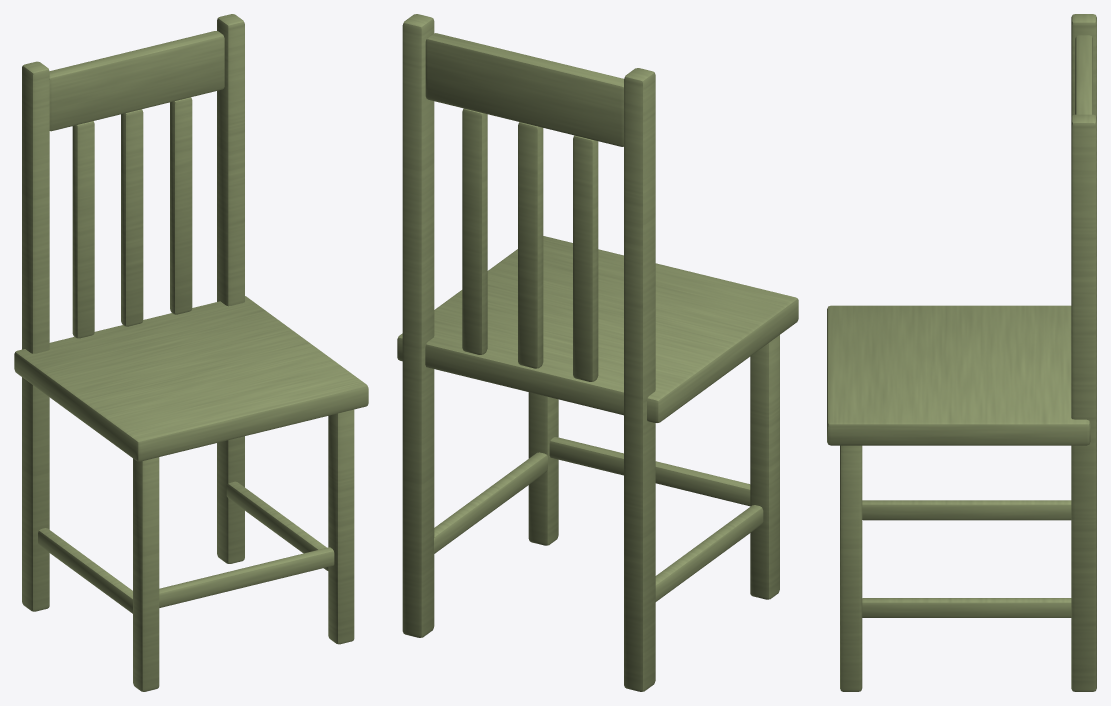
The model's file is SM_Chair_Sage.fbx.
The picture shows the model from 3 angles, left to right: view 1: azimuth 30°, elevation 25°; view 2: azimuth 150°, elevation 25°; view 3: azimuth 270°, elevation 25°; orthographic projection. The views are drawn at different scales.
Visible parts, largest first — view 1: SM_Chair_Sage; view 2: SM_Chair_Sage; view 3: SM_Chair_Sage.
Part boxes in pixels (x1,y1,x2,y2): SM_Chair_Sage: (14, 14, 368, 691); SM_Chair_Sage: (397, 14, 798, 691); SM_Chair_Sage: (827, 14, 1096, 691).
Size of what is drawn, in the model's own units: 0.44 by 0.98 by 0.42.
1 material, 1 textured.
